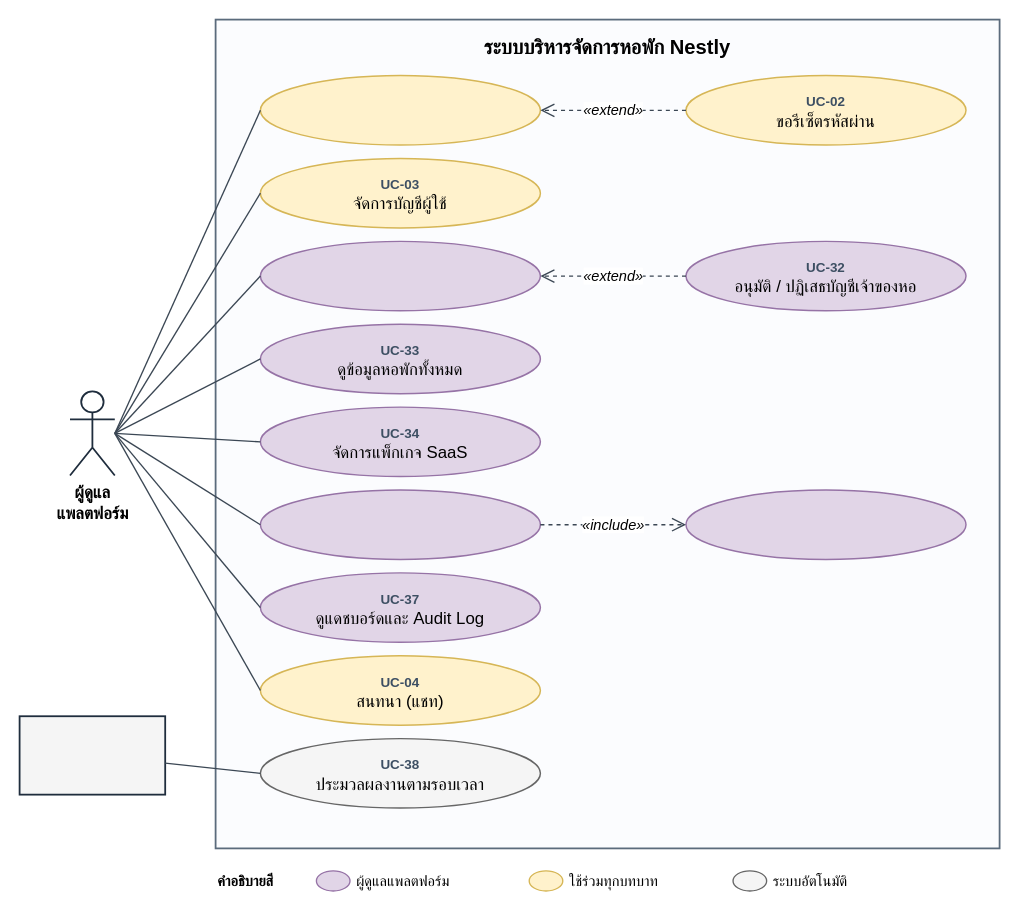
The diagram is 1020 pixels wide and 915 high, and some of its shapes have lost their labels. The shapes that lost their labels are listed below. From the top down, each one's centre as x and y in pixels, then its label:
the point at 400,109: UC-01 เข้าสู่ระบบ
the point at 400,275: UC-31 จัดการบัญชีเจ้าของหอ
the point at 400,524: UC-35 ตรวจสอบการชำระค่าแพ็กเกจ
the point at 825,524: UC-36 เปิดใช้ / ต่ออายุสมาชิก
the point at 92,755: «actor» ระบบตั้งเวลา (Scheduler)
